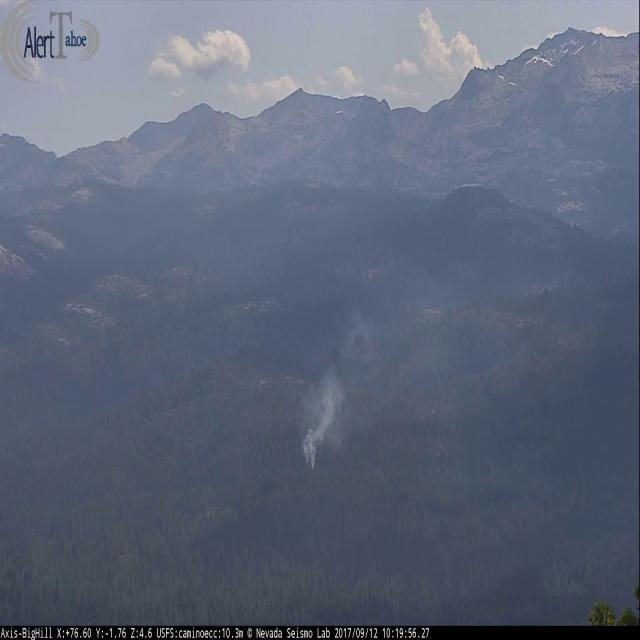smoke: (299, 247, 574, 462)
